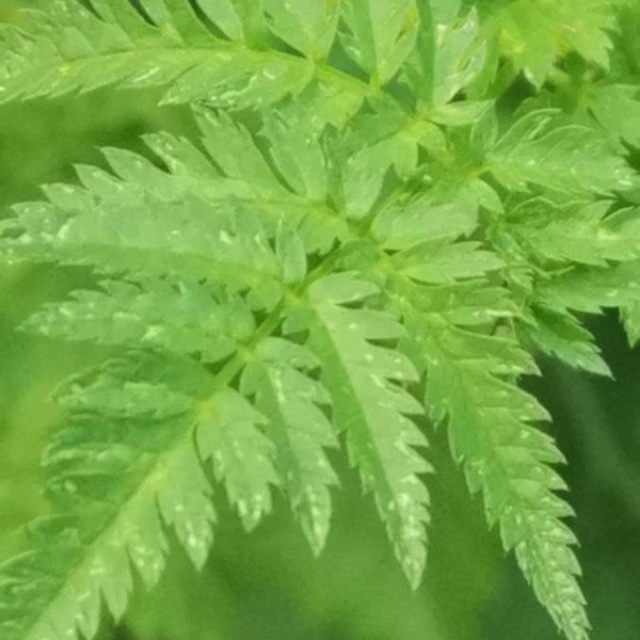obstacle: (37, 23, 611, 625)
